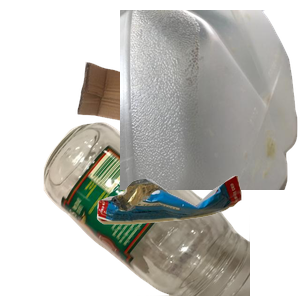cardboard: (75, 59, 237, 176)
glass: (41, 120, 281, 300)
plastic: (120, 10, 300, 190)
trash: (94, 173, 300, 300)
